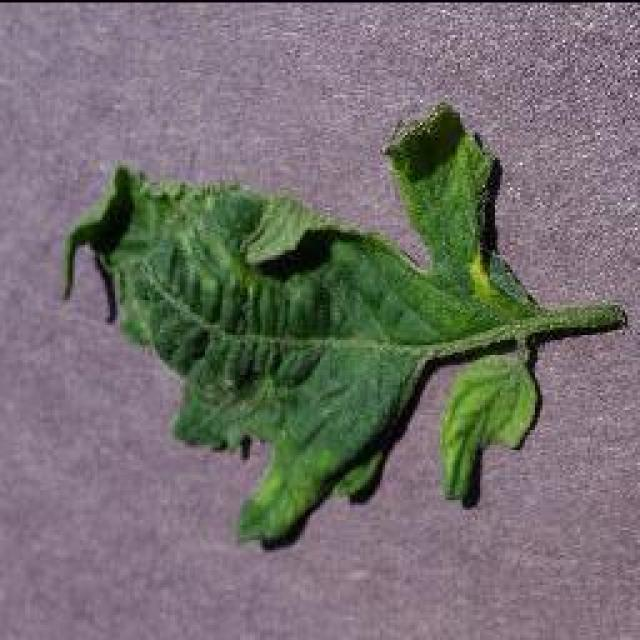Tomato___Tomato_mosaic_virus: (65, 105, 625, 540)
